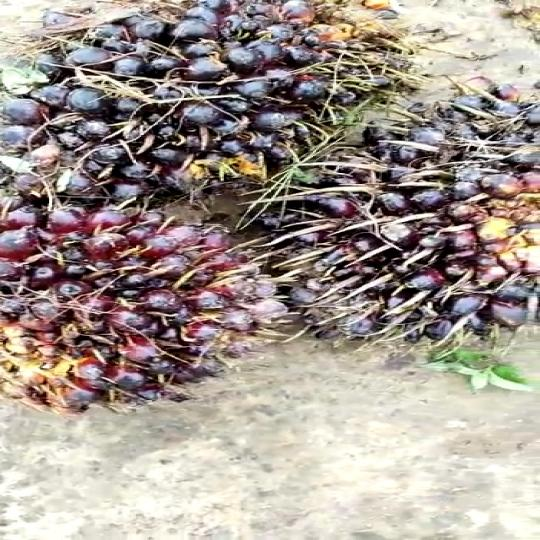kurang masak: (252, 78, 540, 344), (0, 0, 356, 193), (0, 192, 247, 420)
